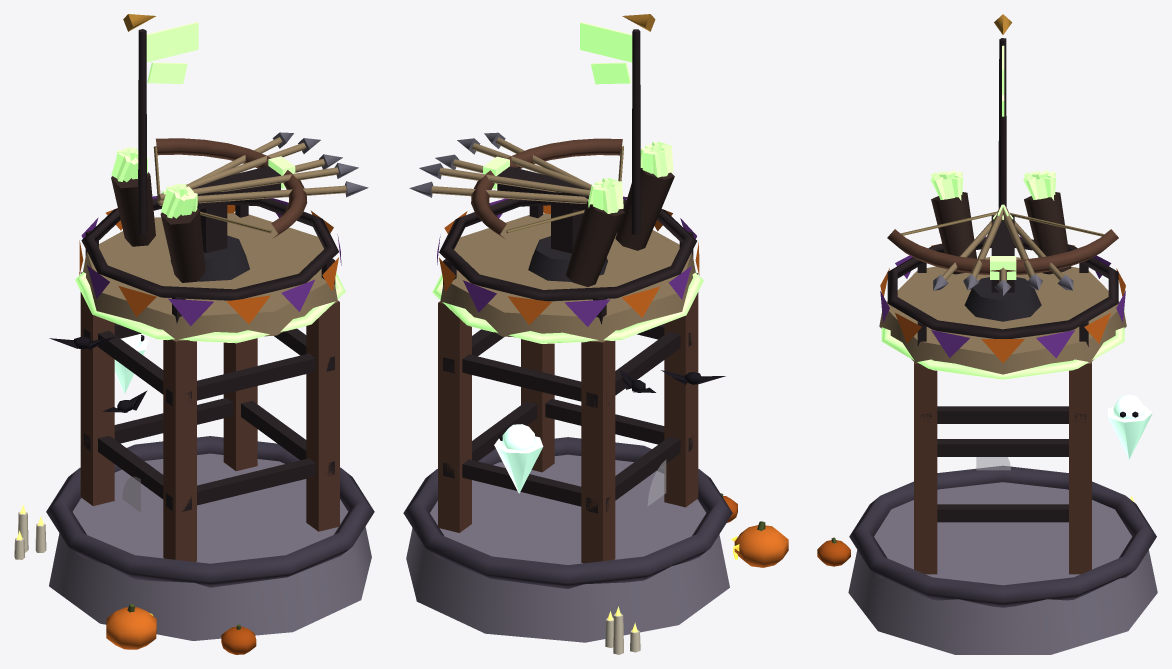
Rendered from tower_archer_arrowRain.glb.
The picture shows the model from 3 angles, left to right: view 1: azimuth 30°, elevation 25°; view 2: azimuth 150°, elevation 25°; view 3: azimuth 270°, elevation 25°; orthographic projection. The views are drawn at different scales.
Parts seen in each view (by area): view 1: base, deck, base_rim, post_wn, post_en, post_ws, rail, deco_hw_bunting, post_es, bow, beam_x_1_n, beam_x_0_n (+20 smaller); view 2: base, deck, base_rim, post_ws, post_es, post_wn, rail, deco_hw_bunting, quiver_b, bow, post_en, deck_band (+21 smaller); view 3: base, base_rim, deck, post_en, post_es, rail, deco_hw_bunting, bow, beam_z_0_e, beam_z_0_w, beam_z_1_e, swivel (+11 smaller).
Boxes of the visible parts, x1,y1,x2,y2 form: base: [49, 453, 371, 640]; deck: [83, 213, 337, 341]; base_rim: [46, 436, 374, 587]; post_wn: [163, 339, 196, 561]; post_en: [306, 300, 339, 531]; post_ws: [80, 272, 114, 505]; rail: [81, 198, 338, 300]; deco_hw_bunting: [79, 196, 341, 325]; post_es: [223, 338, 257, 471]; bow: [156, 138, 307, 238]; beam_x_1_n: [166, 353, 315, 406]; beam_x_0_n: [166, 458, 315, 510]; base: [406, 454, 729, 642]; deck: [440, 213, 695, 341]; base_rim: [403, 437, 732, 588]; post_ws: [581, 340, 615, 563]; post_es: [438, 301, 471, 532]; post_wn: [664, 273, 698, 507]; rail: [439, 199, 696, 301]; deco_hw_bunting: [437, 196, 699, 326]; quiver_b: [566, 201, 624, 286]; bow: [471, 138, 622, 238]; post_en: [521, 339, 554, 472]; deck_band: [432, 272, 703, 343]; base: [848, 482, 1157, 654]; base_rim: [849, 465, 1156, 607]; deck: [879, 257, 1126, 374]; post_en: [914, 362, 937, 574]; post_es: [1069, 362, 1091, 574]; rail: [887, 238, 1118, 338]; deco_hw_bunting: [880, 236, 1125, 363]; bow: [887, 229, 1118, 274]; beam_z_0_e: [937, 504, 1068, 522]; beam_z_0_w: [937, 439, 1068, 456]; beam_z_1_e: [937, 406, 1068, 423]; swivel: [964, 277, 1041, 321].
Size of the model in its own units: 0.4215 by 0.772 by 0.4404.
